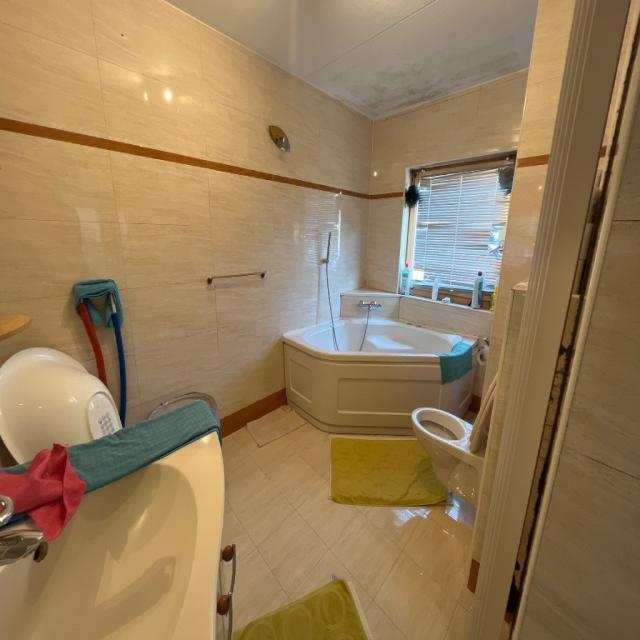bath: (282, 300, 479, 367)
douche: (470, 0, 640, 640)
toilet: (413, 371, 498, 508)
wastafel: (0, 430, 225, 639), (214, 516, 236, 640)
